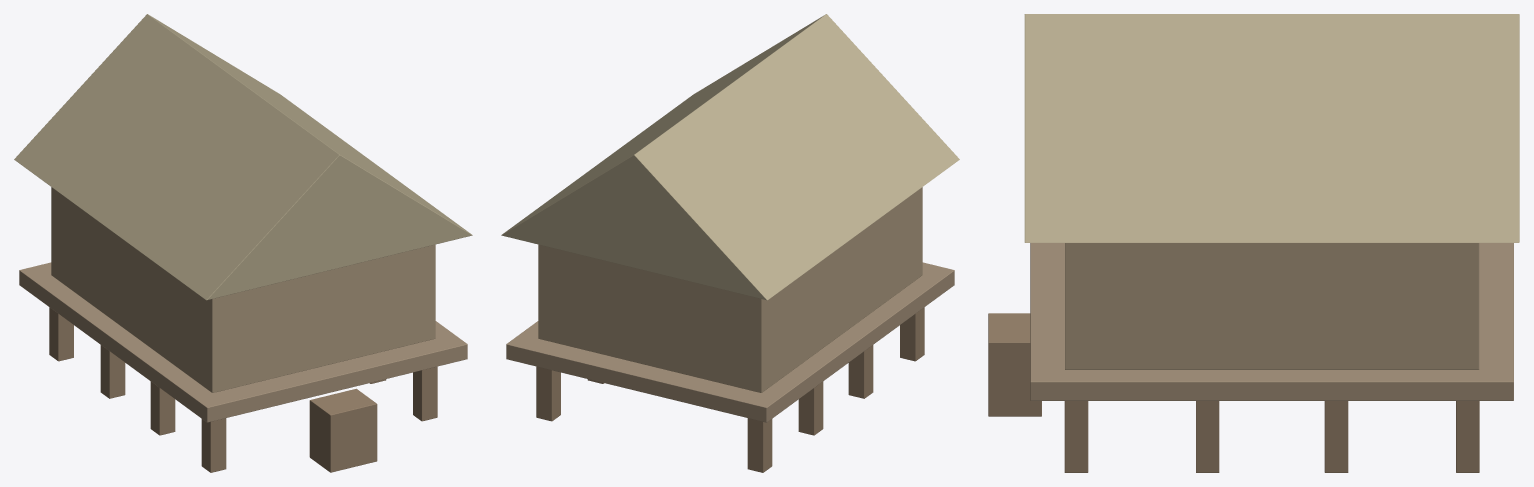
Rendered from House_Meso_d.glb.
3 renders of one model, left to right at view 1: azimuth 30°, elevation 25°; view 2: azimuth 150°, elevation 25°; view 3: azimuth 270°, elevation 25°, orthographic. The views are drawn at different scales.
Parts seen in each view (by area): view 1: House_Meso_d; view 2: House_Meso_d; view 3: House_Meso_d.
Boxes of the visible parts, box(x1,y1,x2,y2) form: House_Meso_d: box(14, 14, 472, 472); House_Meso_d: box(501, 14, 959, 472); House_Meso_d: box(988, 14, 1519, 472).
Size of what is drawn, in the model's own units: 3.69 by 4 by 4.96.
